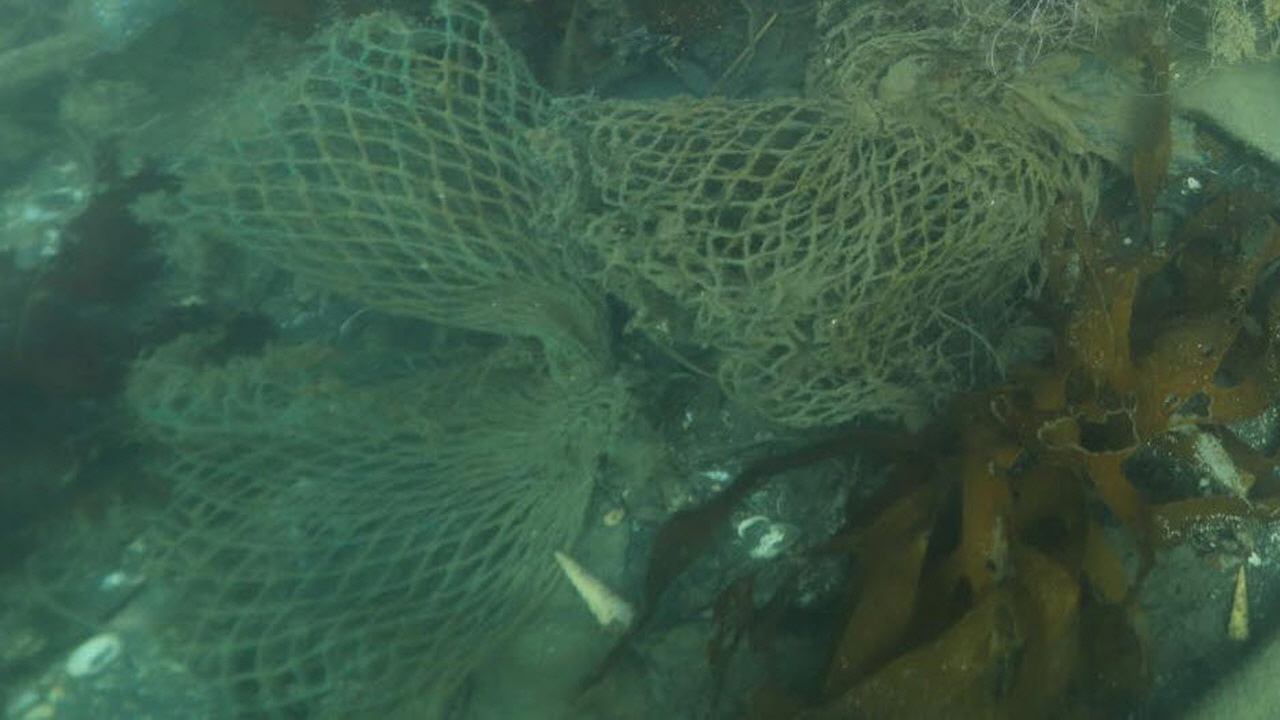fish net: (134, 0, 1073, 720)
